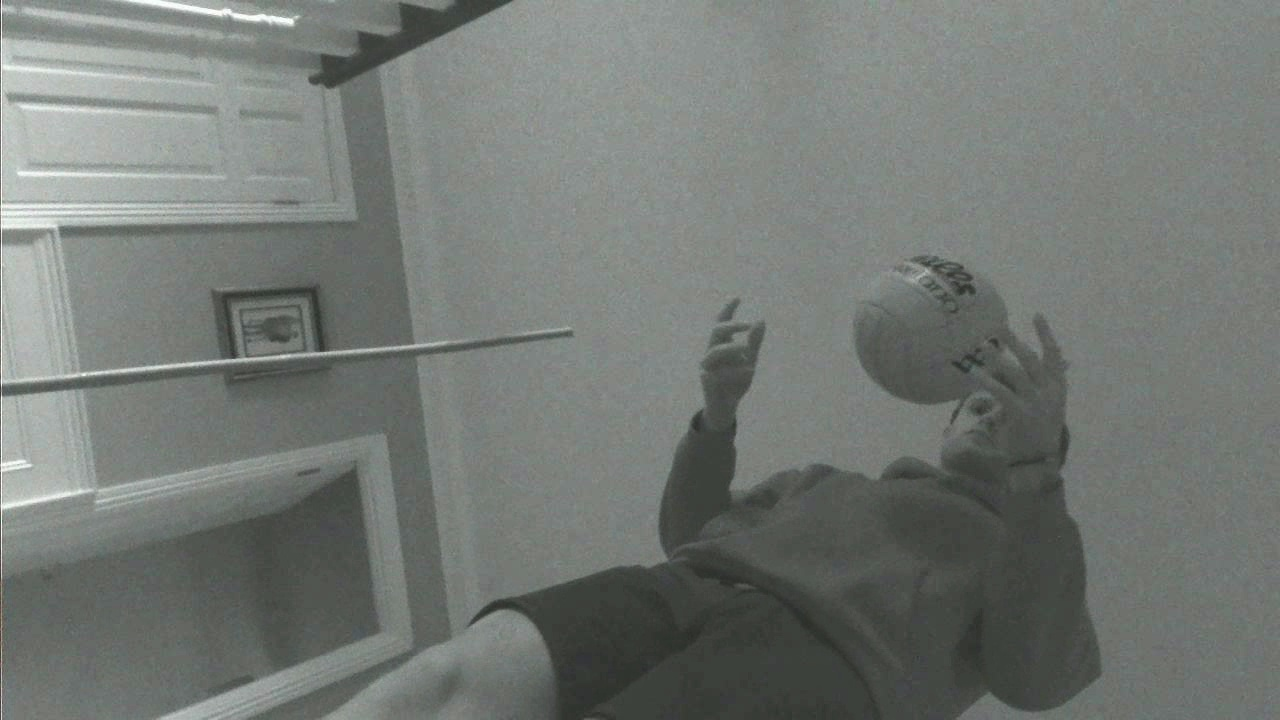Football-Spotter: (854, 255, 1007, 403)
